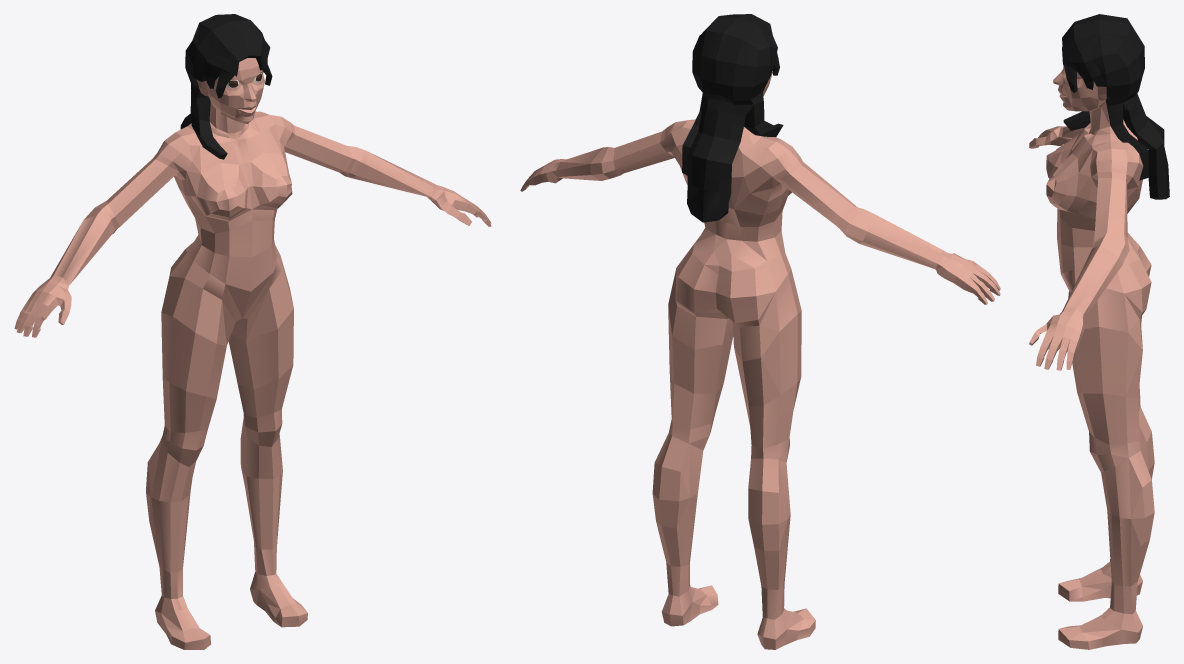
File: cutmum2.fbx
3 renders of one model, left to right at view 1: azimuth 30°, elevation 25°; view 2: azimuth 150°, elevation 25°; view 3: azimuth 270°, elevation 25°, orthographic.
Parts seen in each view (by area): view 1: mum.015, mum.023, mum.017, mum.016, lleg, mum.011, mum.021, mum.019, mum.025, mum.026, mum.018, mum.020 (+1 smaller); view 2: mum.015, mum.011, mum.023, lleg, mum.017, mum.016, mum.019, mum.026, mum.018, mum.025, mum.020; view 3: mum.015, mum.011, mum.016, lleg, mum.025, mum.024, mum.017, mum.021, mum.020, mum.018.
Boxes of the visible parts, left/top/right/bottom form: mum.015: left=153, top=111, right=295, bottom=321; mum.023: left=161, top=276, right=235, bottom=450; mum.017: left=146, top=436, right=211, bottom=649; mum.016: left=228, top=258, right=293, bottom=432; lleg: left=240, top=419, right=307, bottom=627; mum.011: left=180, top=14, right=272, bottom=159; mum.021: left=197, top=58, right=264, bottom=139; mum.019: left=50, top=200, right=119, bottom=285; mum.025: left=340, top=146, right=433, bottom=197; mum.026: left=107, top=158, right=178, bottom=226; mum.018: left=14, top=275, right=71, bottom=337; mum.020: left=284, top=125, right=352, bottom=172; mum.015: left=659, top=119, right=802, bottom=327; mum.011: left=682, top=14, right=783, bottom=222; mum.023: left=732, top=269, right=801, bottom=459; lleg: left=652, top=433, right=718, bottom=626; mum.017: left=748, top=446, right=815, bottom=649; mum.016: left=668, top=269, right=733, bottom=443; mum.019: left=833, top=206, right=942, bottom=269; mum.026: left=779, top=162, right=857, bottom=224; mum.018: left=935, top=250, right=1000, bottom=304; mum.025: left=556, top=147, right=623, bottom=180; mum.020: left=613, top=131, right=674, bottom=173; mum.015: left=1046, top=123, right=1151, bottom=318; mum.011: left=1062, top=14, right=1169, bottom=199; mum.016: left=1070, top=288, right=1142, bottom=466; lleg: left=1058, top=451, right=1154, bottom=649; mum.025: left=1062, top=232, right=1129, bottom=319; mum.024: left=1029, top=306, right=1084, bottom=370; mum.017: left=1058, top=407, right=1154, bottom=601; mum.021: left=1053, top=64, right=1130, bottom=135; mum.020: left=1094, top=178, right=1127, bottom=239; mum.018: left=1029, top=126, right=1070, bottom=148.
Size of the model in its own units: 158 by 194 by 41.32.
